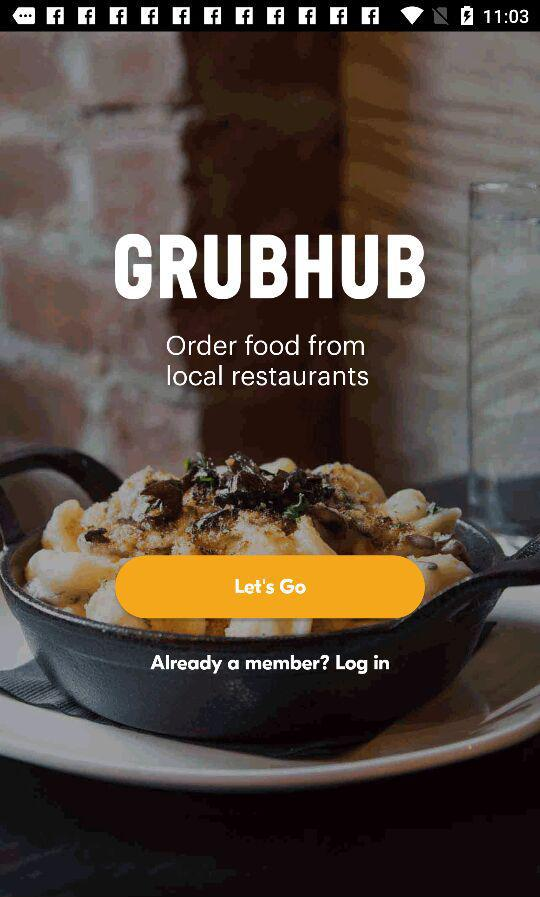BackgroundImage: (1, 33, 540, 897)
Text: (115, 234, 426, 301), (167, 333, 369, 388), (151, 654, 390, 675)
TextButton: (115, 555, 426, 620)
UpperTaskBar: (1, 1, 540, 33)
